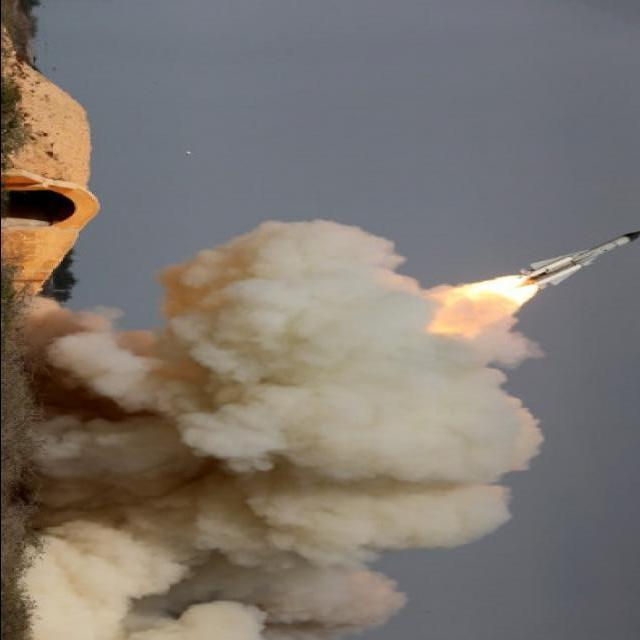missile: (522, 228, 638, 294)
